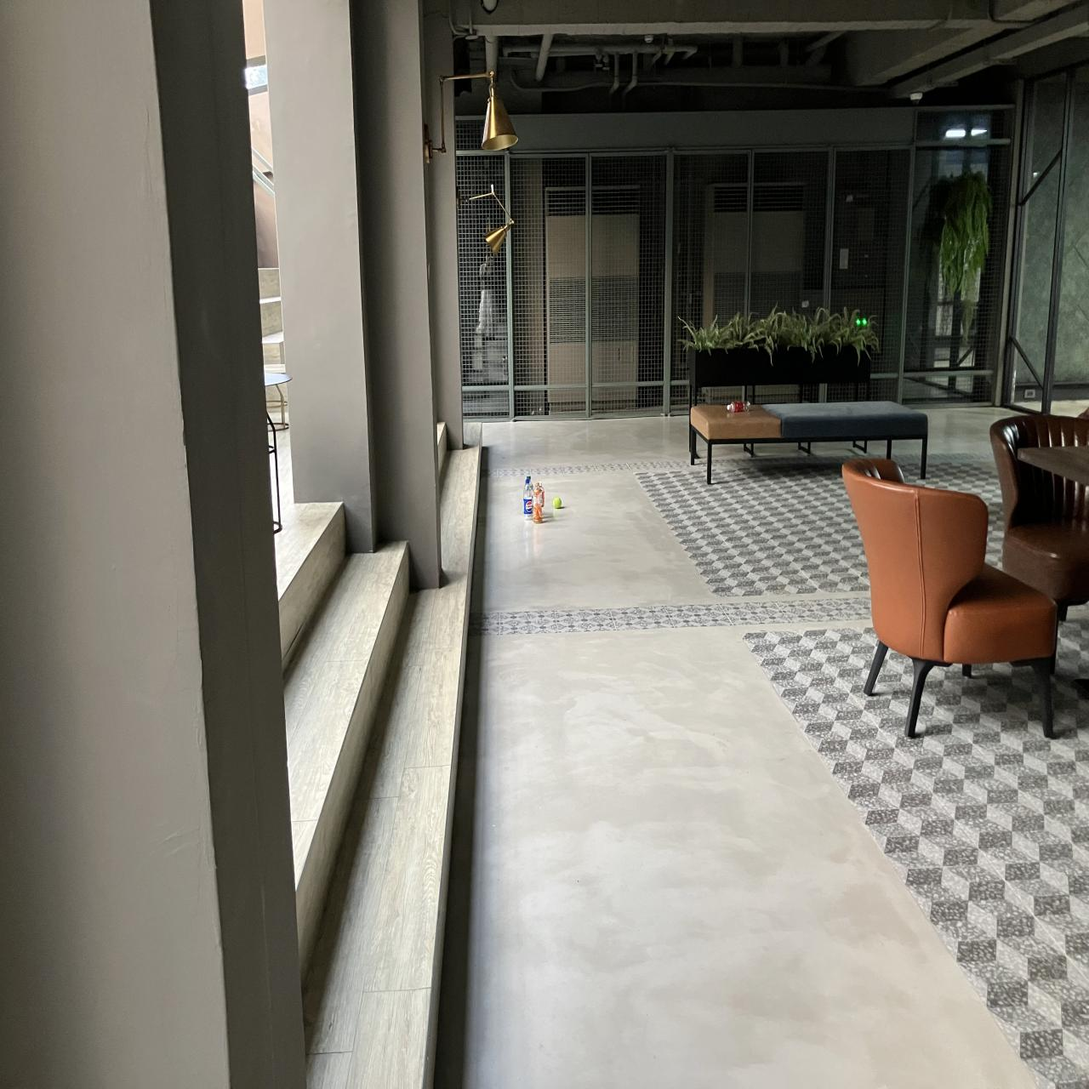plastic-bottle: (524, 479, 533, 520), (533, 482, 542, 523), (525, 475, 534, 512), (537, 482, 544, 507)
tennisball: (553, 497, 562, 509)
